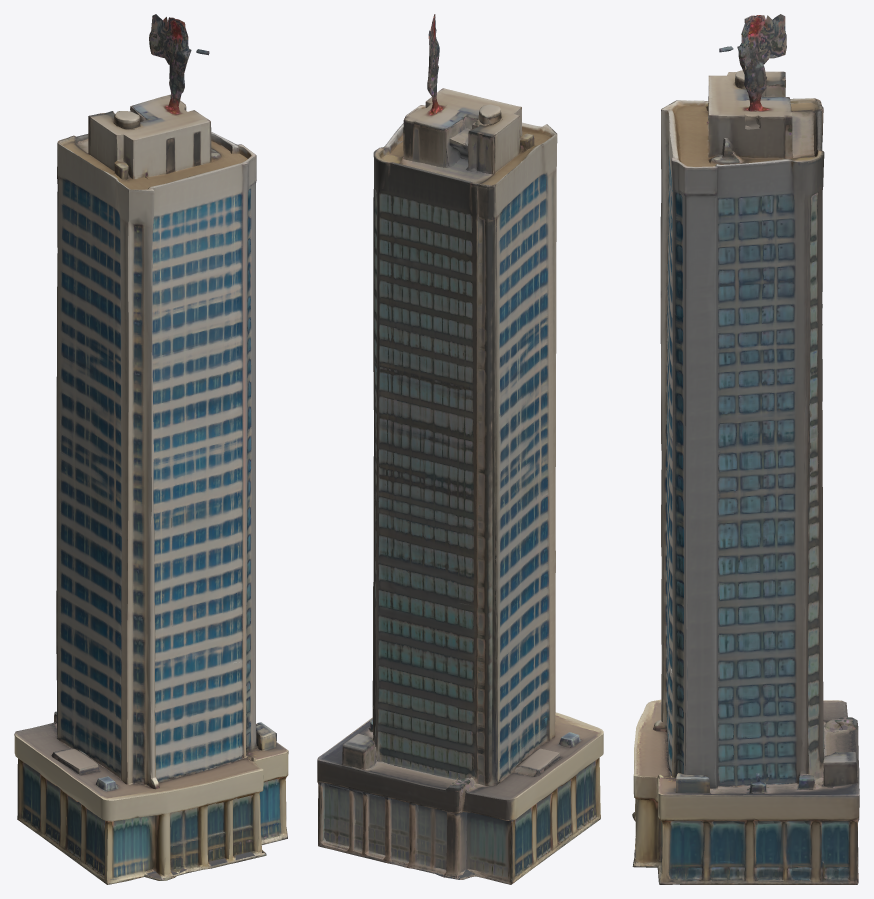
Rendered from v3_shalom_meir_tower.glb.
3 views of the same model, side by side, from view 1: azimuth 30°, elevation 25°; view 2: azimuth 150°, elevation 25°; view 3: azimuth 270°, elevation 25° (orthographic). The views are drawn at different scales.
Parts seen in each view (by area): view 1: geometry_0; view 2: geometry_0; view 3: geometry_0.
Part boxes in pixels (x1,y1,x2,y2): geometry_0: (14, 14, 288, 884); geometry_0: (317, 14, 603, 884); geometry_0: (632, 14, 859, 884).
Size of the model in its own units: 35 by 142 by 35.
Materials: 1 (1 with a texture image).
